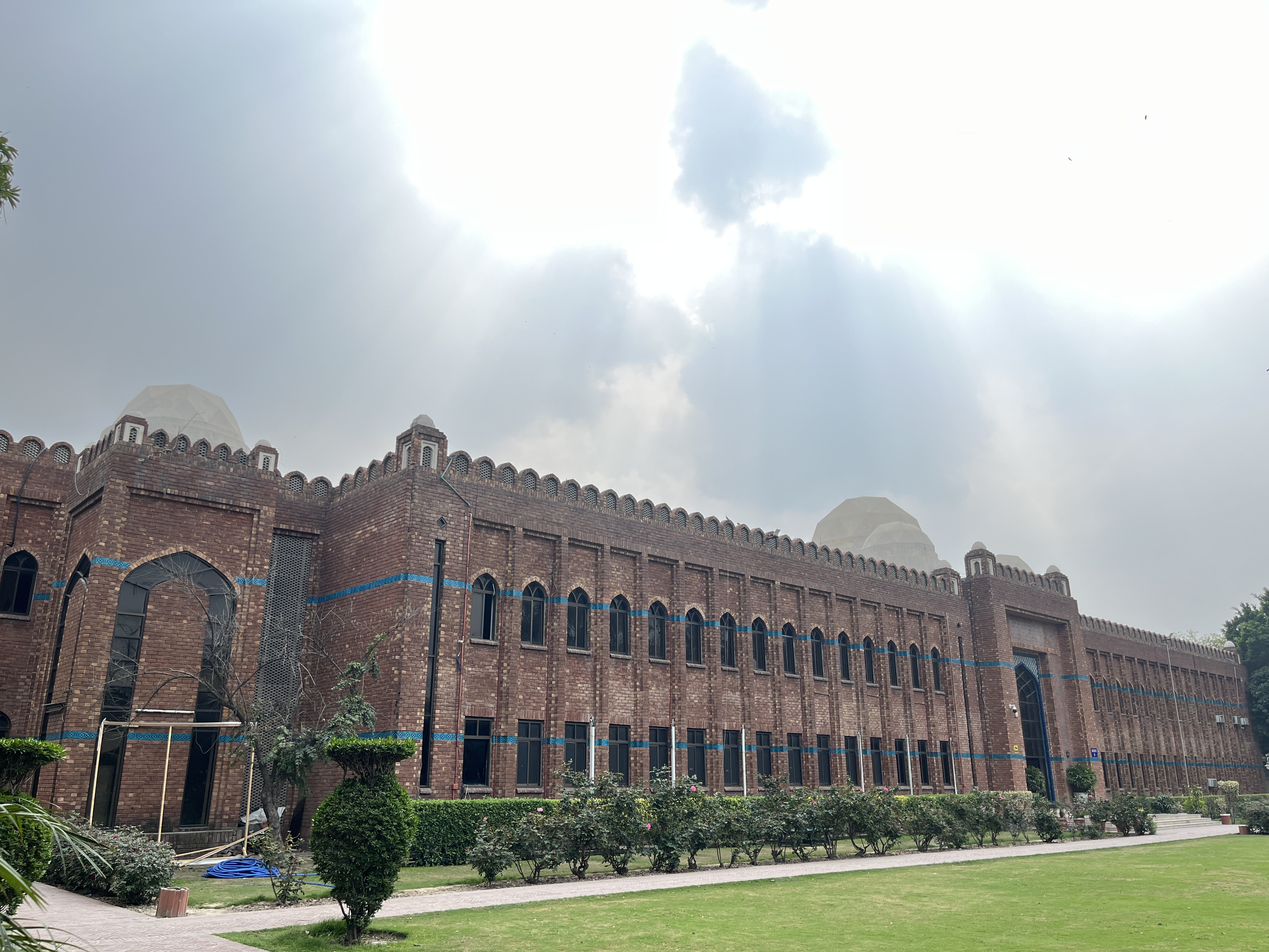Block B: (1, 371, 1269, 843)
